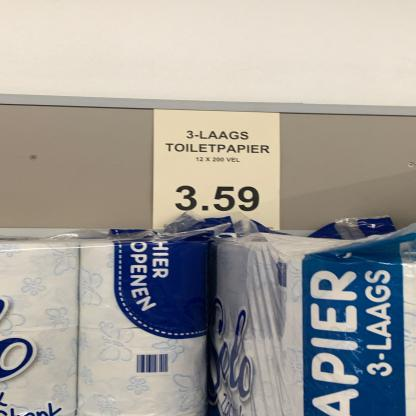prtg: (153, 111, 282, 231)
